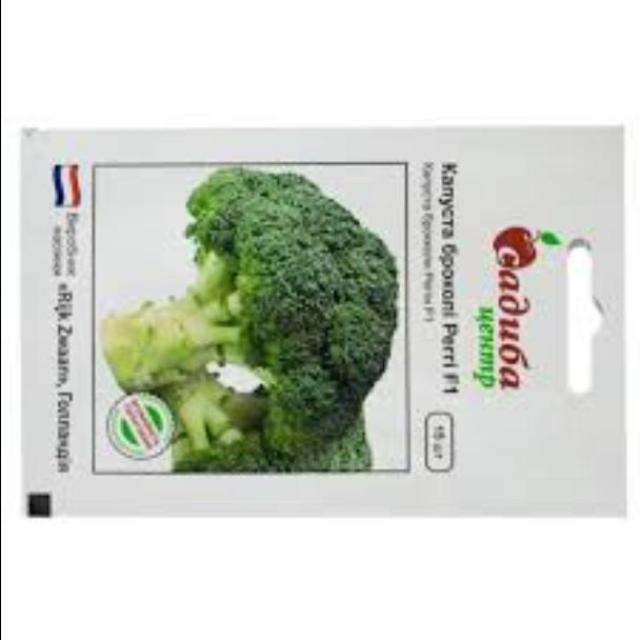Broccoli: (115, 166, 398, 492)
